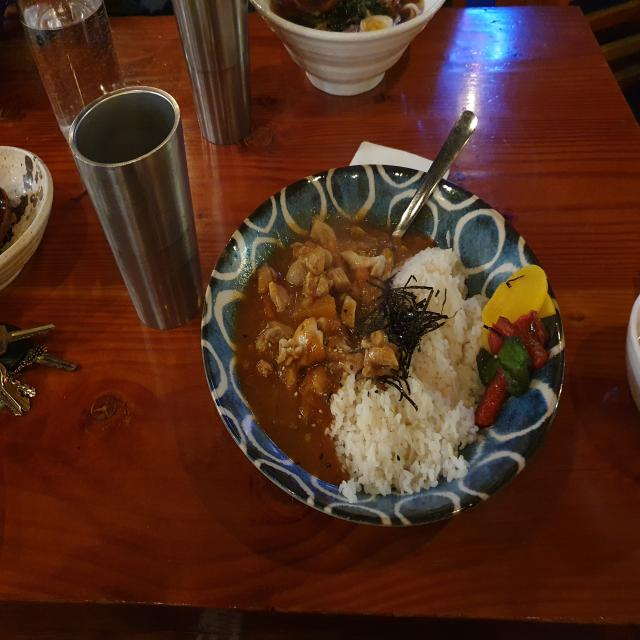Bowl: (200, 163, 566, 528), (250, 0, 445, 97), (0, 144, 54, 290)
Cup: (68, 84, 204, 331), (20, 1, 132, 163), (172, 2, 268, 148)
